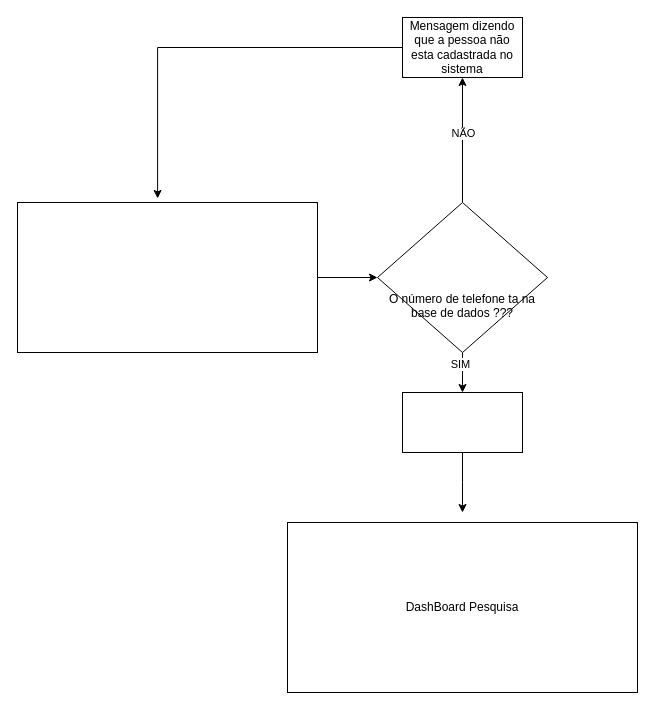
This 655x710 diagram has some shape labels left out. The centre of each missing label's shape, as x and y in pixels:
Bem vindo ao NEPREC Pesquisa Insira seu número de telefone: the point at 167,277
Envia um código para poder entrar: the point at 462,422
